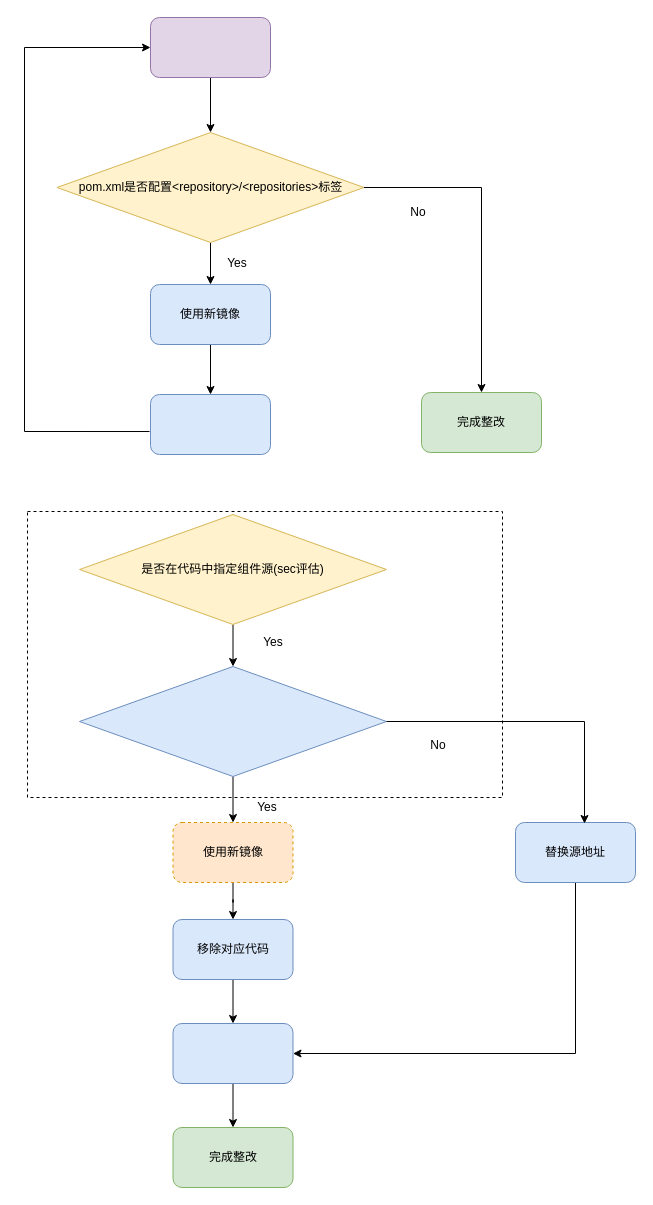
This 653x1205 diagram has some shape labels left out. The shapes that lost their labels are listed below. From the top down, each one's box as (x1, y1, x2, y2) in pixels, then its label:
(150, 16, 270, 78): 检查pom.xml
(150, 394, 270, 454): 整改pom.xml
(78, 666, 386, 776): 是否走发布平台构建服务
(172, 1022, 293, 1084): 服务构建
